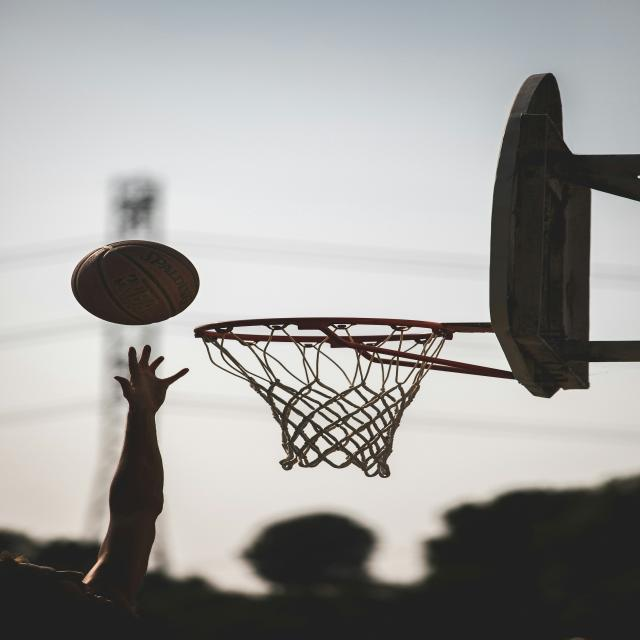Basketball: (71, 239, 200, 326)
